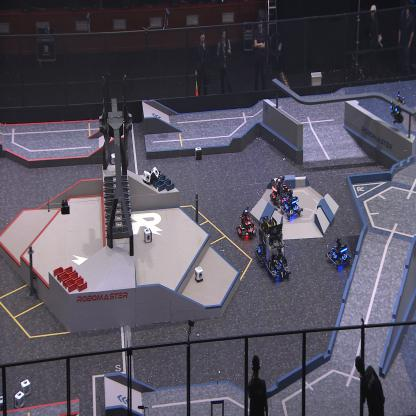car: (264, 219, 290, 282), (254, 217, 276, 266), (326, 235, 351, 270), (235, 206, 257, 240), (270, 174, 290, 210), (281, 189, 302, 220)
